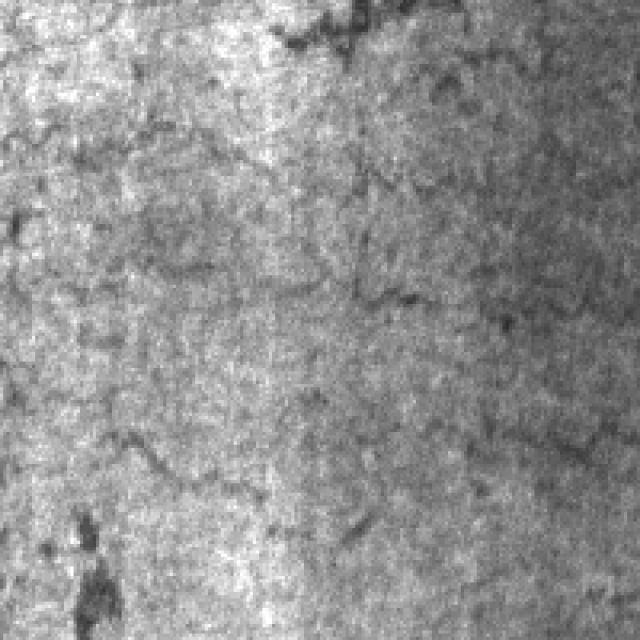crazing: (0, 118, 474, 326), (474, 19, 634, 461), (0, 266, 243, 496)
